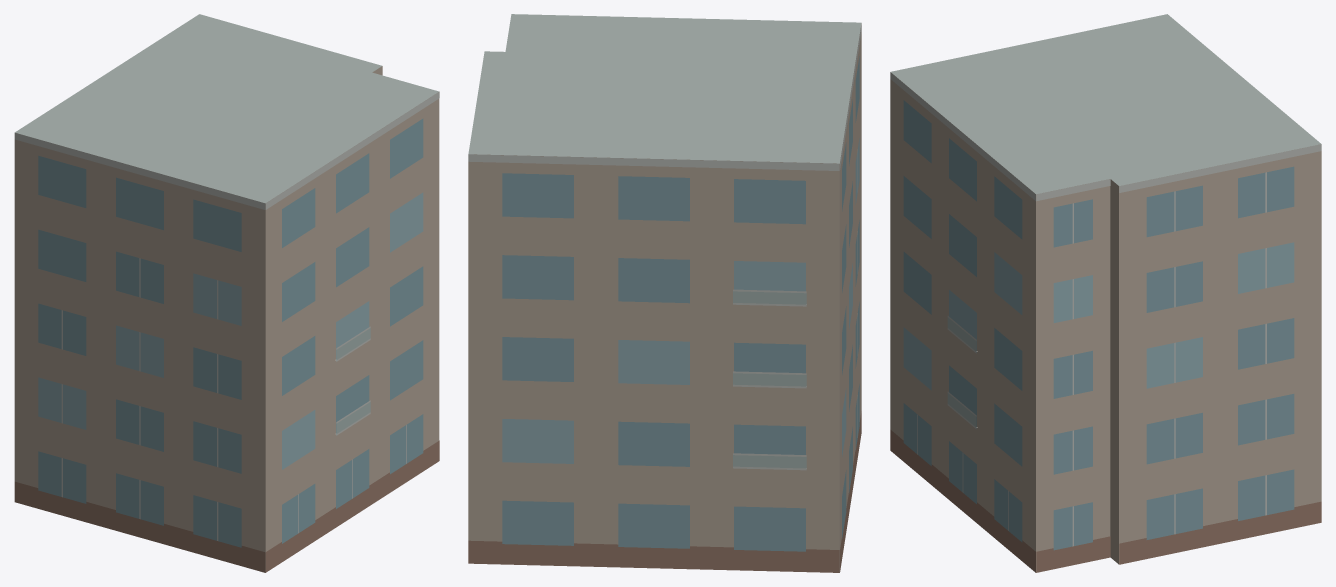
Rendered from survey-upis-32838314.glb.
3 views of the same model, side by side, from view 1: azimuth 30°, elevation 25°; view 2: azimuth 150°, elevation 25°; view 3: azimuth 270°, elevation 25° (orthographic). The views are drawn at different scales.
Parts seen in each view (by area): view 1: survey-upis-32838314.tmp; view 2: survey-upis-32838314.tmp; view 3: survey-upis-32838314.tmp.
Part boxes in pixels (box(x1,y1,x2,y2)): survey-upis-32838314.tmp: box(14, 14, 439, 572); survey-upis-32838314.tmp: box(468, 14, 861, 572); survey-upis-32838314.tmp: box(890, 14, 1321, 572).
Bounding box in the file's own units: 13.49 × 13.2 × 13.64.
